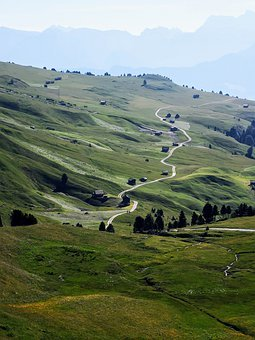field: (3, 67, 254, 329)
